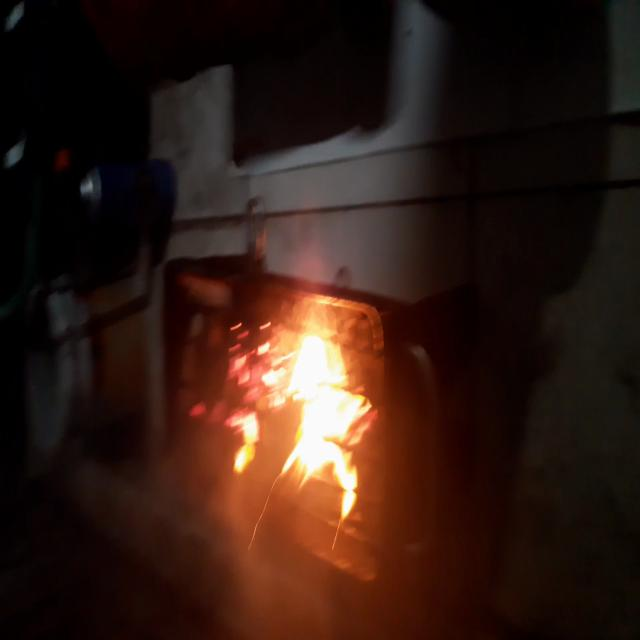Fire: (272, 309, 383, 535), (186, 320, 272, 418)
